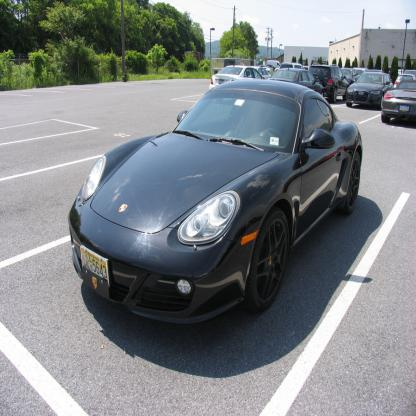Car: (64, 61, 416, 320)
